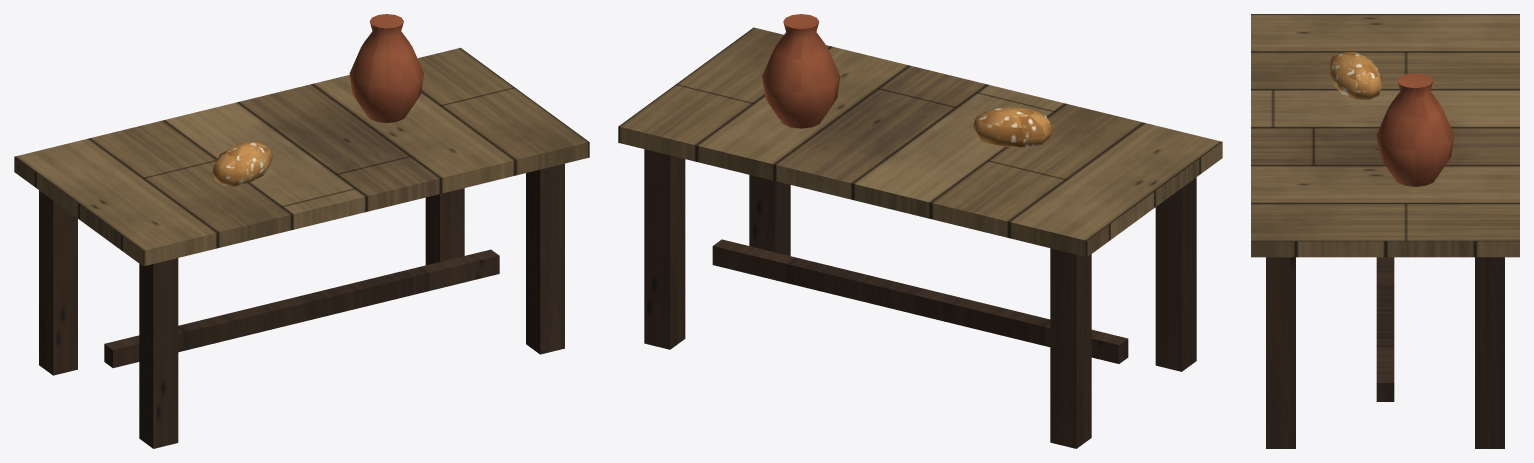
File: table.gltf
3 views of the same model, side by side, from view 1: azimuth 30°, elevation 25°; view 2: azimuth 150°, elevation 25°; view 3: azimuth 270°, elevation 25° (orthographic). The views are drawn at different scales.
Visible parts, largest first — view 1: table_mesh; view 2: table_mesh; view 3: table_mesh.
Boxes of the visible parts, left/top/right/bottom form: table_mesh: left=14, top=14, right=589, bottom=448; table_mesh: left=618, top=14, right=1222, bottom=448; table_mesh: left=1251, top=14, right=1519, bottom=448.
Size of what is drawn, in the model's own units: 1.8 by 1.16 by 0.9.
Materials: 4 (4 with a texture image).
